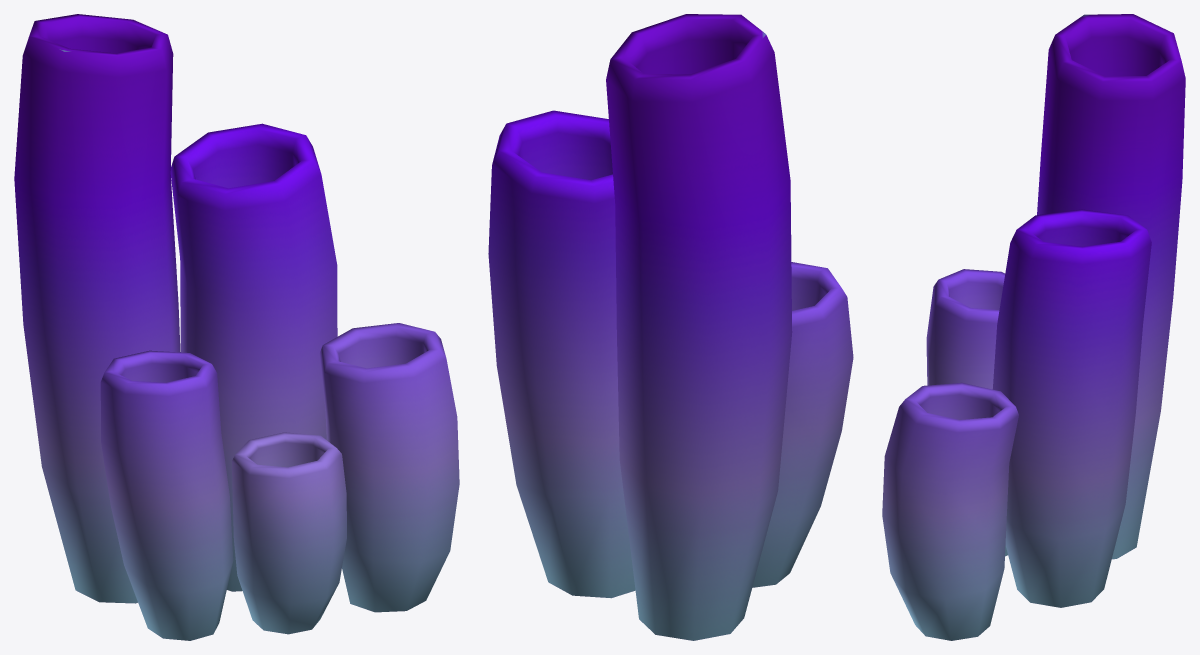
File: MOD_Coral4.fbx
3 renders of one model, left to right at view 1: azimuth 30°, elevation 25°; view 2: azimuth 150°, elevation 25°; view 3: azimuth 270°, elevation 25°, orthographic. The views are drawn at different scales.
Visible parts, largest first — view 1: MOD_Coral4_LOD0; view 2: MOD_Coral4_LOD0; view 3: MOD_Coral4_LOD0.
Part boxes in pixels (left/top/right/bottom): MOD_Coral4_LOD0: left=14, top=14, right=459, bottom=640; MOD_Coral4_LOD0: left=488, top=14, right=853, bottom=640; MOD_Coral4_LOD0: left=882, top=14, right=1185, bottom=640.
Size of what is drawn, in the model's own units: 1.75 by 2.75 by 1.51.
